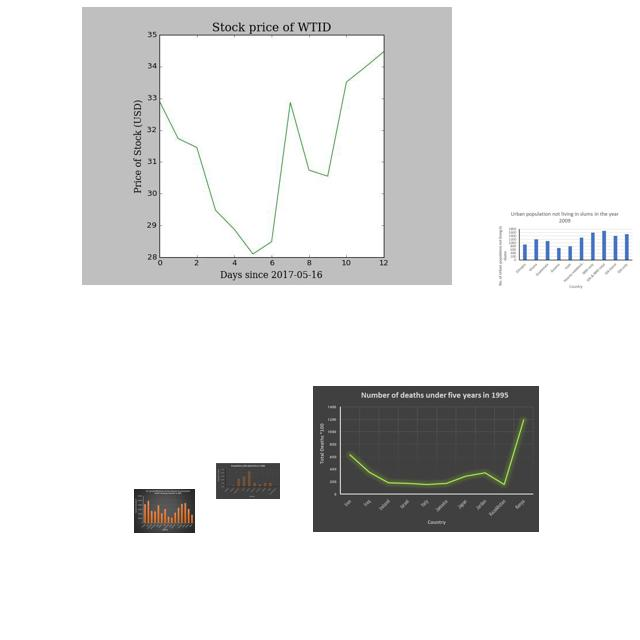Graph: (82, 7, 452, 285), (313, 386, 539, 532), (494, 209, 635, 290), (134, 489, 195, 533), (216, 463, 280, 499)
